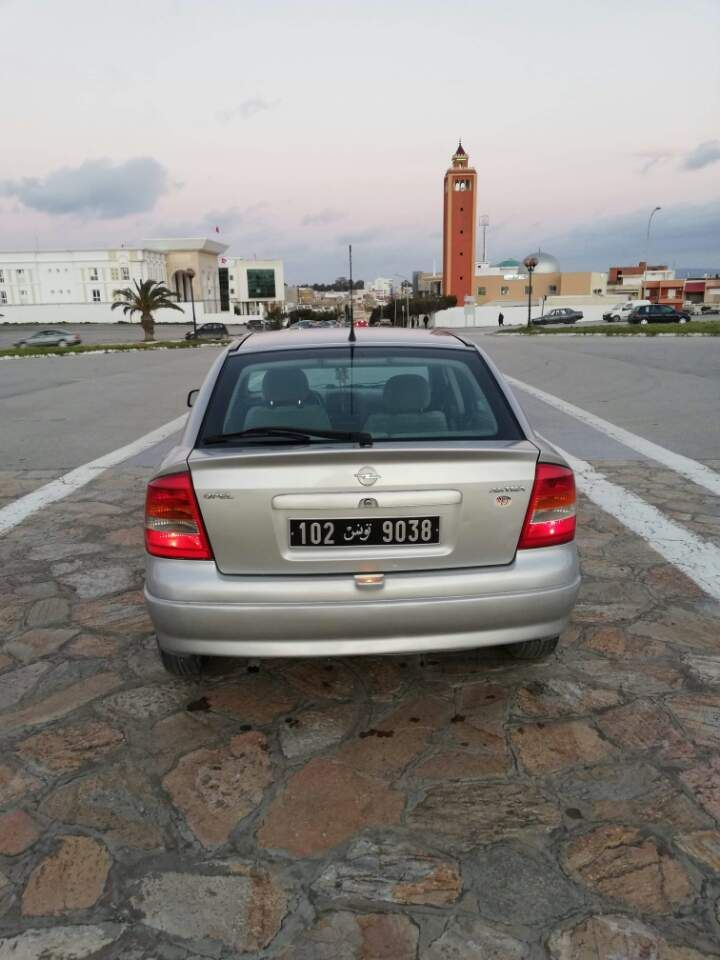LP: (286, 509, 437, 544)
